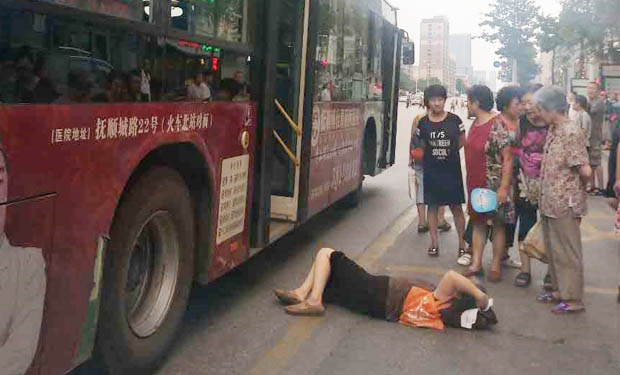falling: (263, 243, 509, 335)
